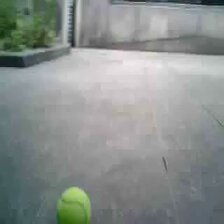tennis: (57, 186, 91, 224)
